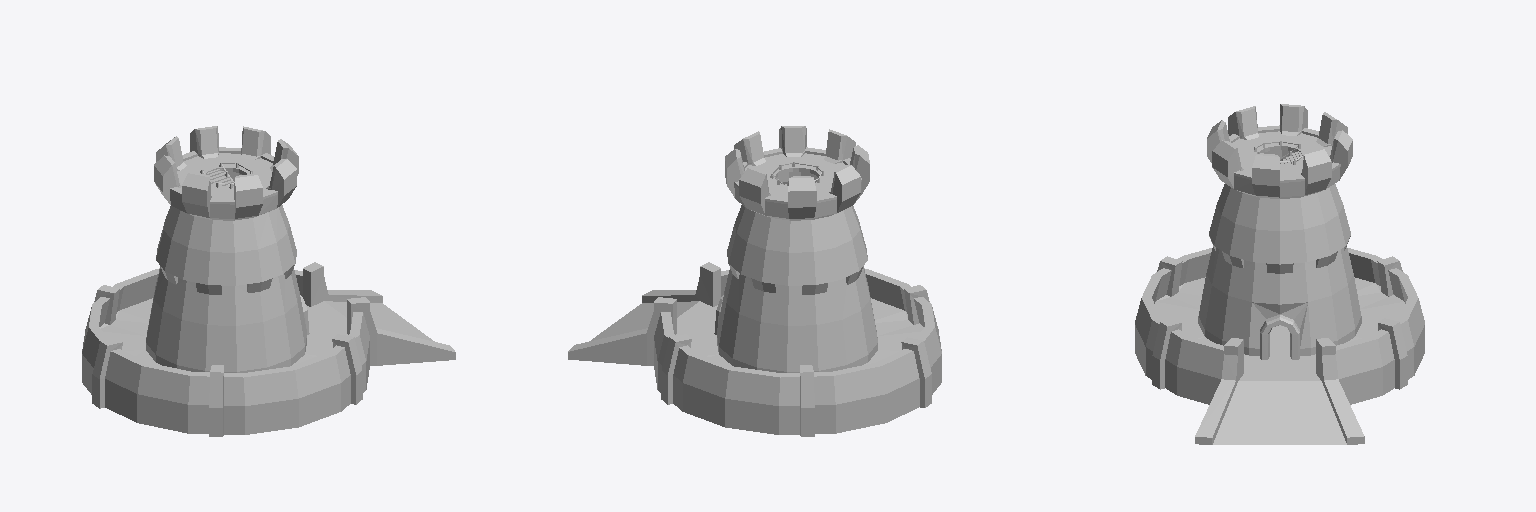
Rendered from guardtower_set1.obj.
The picture shows the model from 3 angles: view 1: azimuth 30°, elevation 25°; view 2: azimuth 150°, elevation 25°; view 3: azimuth 270°, elevation 25°; orthographic projection.
Visible parts, largest first — view 1: guardtower_set1; view 2: guardtower_set1; view 3: guardtower_set1.
Boxes of the visible parts, box(x1,y1,x2,y2) form: guardtower_set1: box(82, 126, 455, 436); guardtower_set1: box(568, 126, 941, 436); guardtower_set1: box(1135, 104, 1424, 444).
Bounding box in the file's own units: 69.99 × 46.43 × 55.